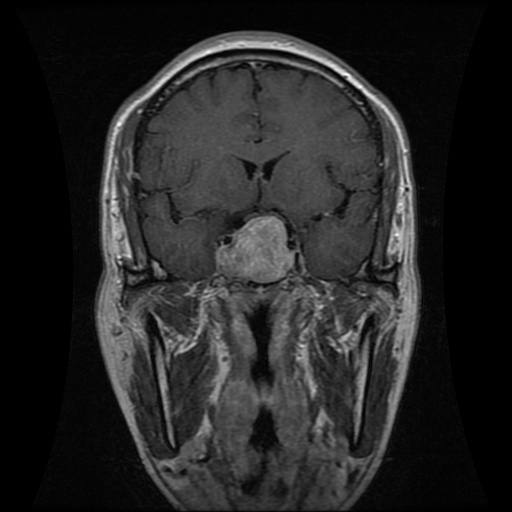pituitary: (216, 215, 295, 282)
